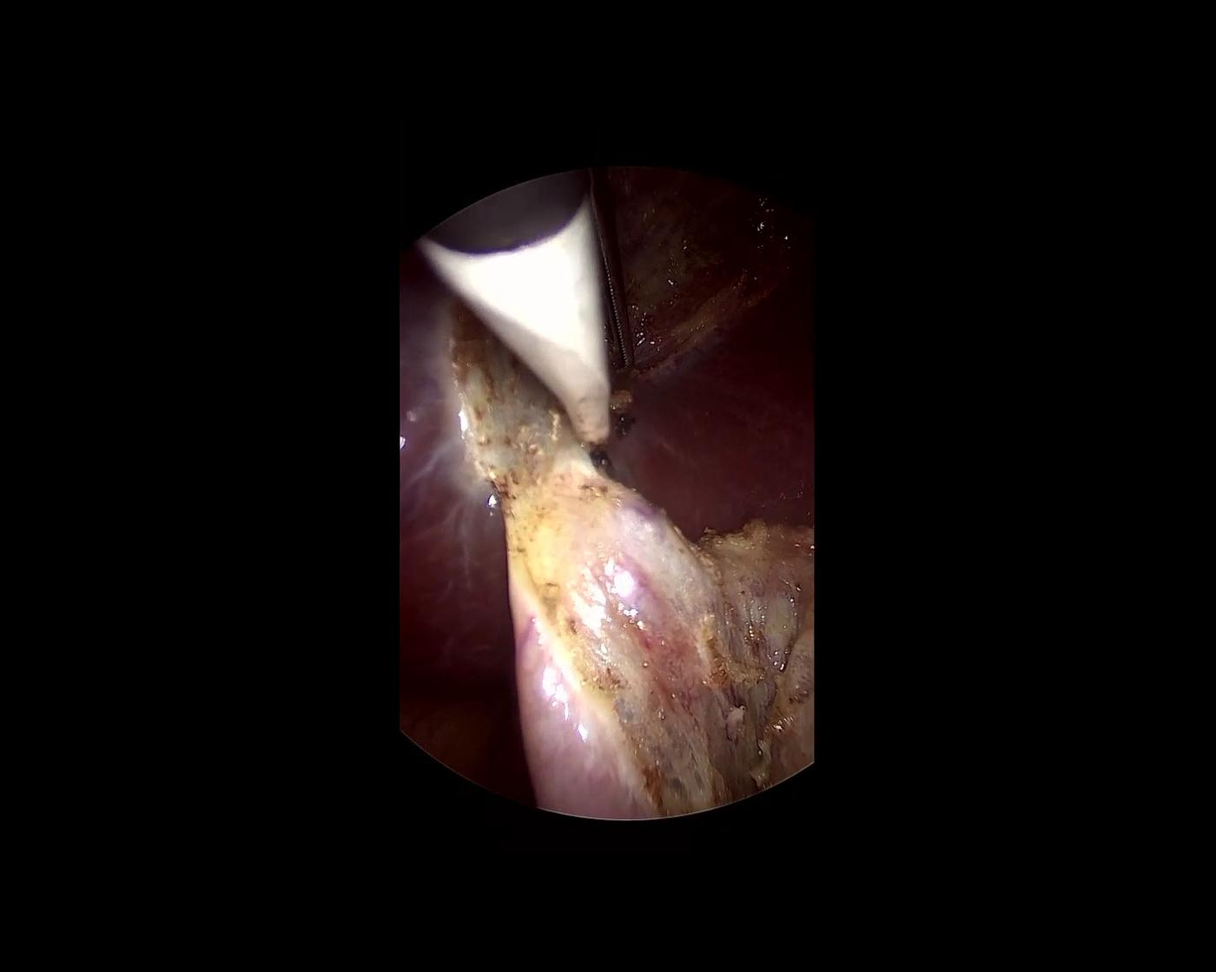Cautery: (411, 170, 637, 471)
Forceps: (584, 168, 633, 365)
Gallbladder: (508, 458, 813, 818)
Liver: (592, 244, 814, 538), (381, 241, 514, 719)
